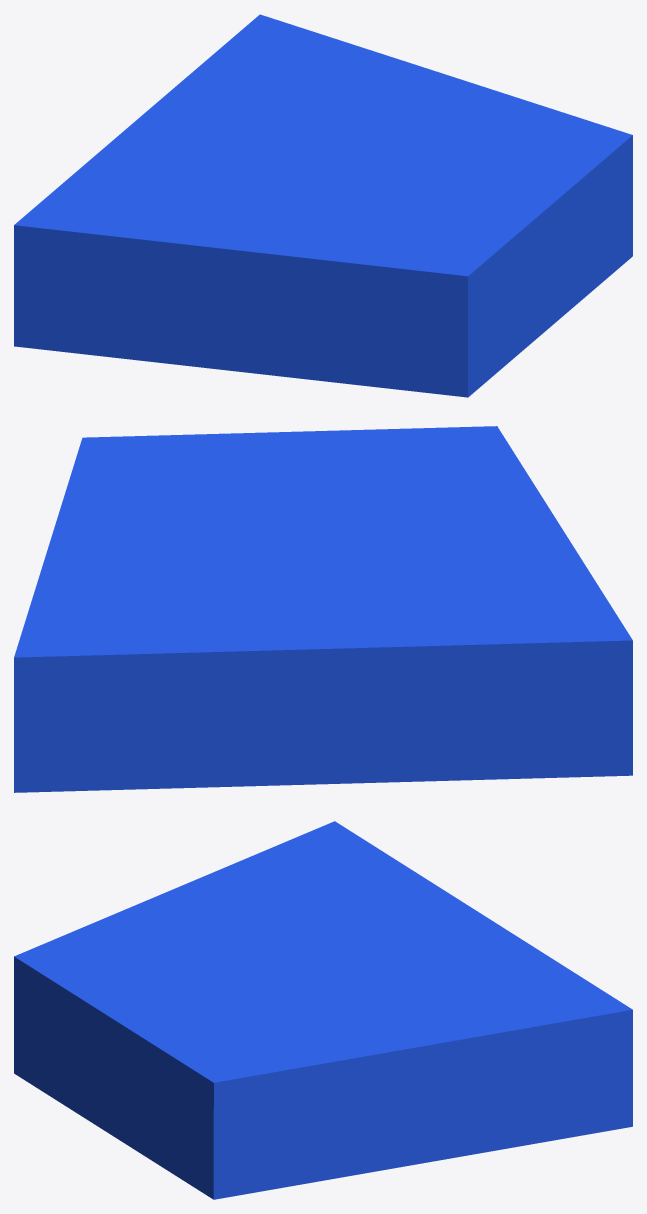
The model's file is Dest_PoisonFactory_PlugHole_Physic.FBX.
3 renders of one model, top to bottom at view 1: azimuth 30°, elevation 25°; view 2: azimuth 150°, elevation 25°; view 3: azimuth 270°, elevation 25°, orthographic. The views are drawn at different scales.
Parts seen in each view (by area): view 1: Object006; view 2: Object006; view 3: Object006.
Part boxes in pixels (box(x1,y1,x2,y2)): Object006: box(14, 14, 632, 397); Object006: box(14, 426, 632, 792); Object006: box(14, 821, 632, 1199).
Bounding box in the file's own units: 20.62 × 4.3 × 20.59.
